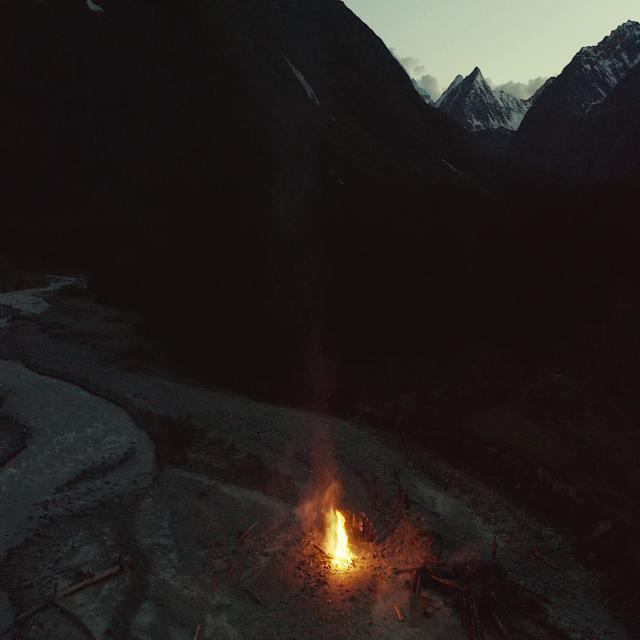Fire: (312, 498, 362, 584)
